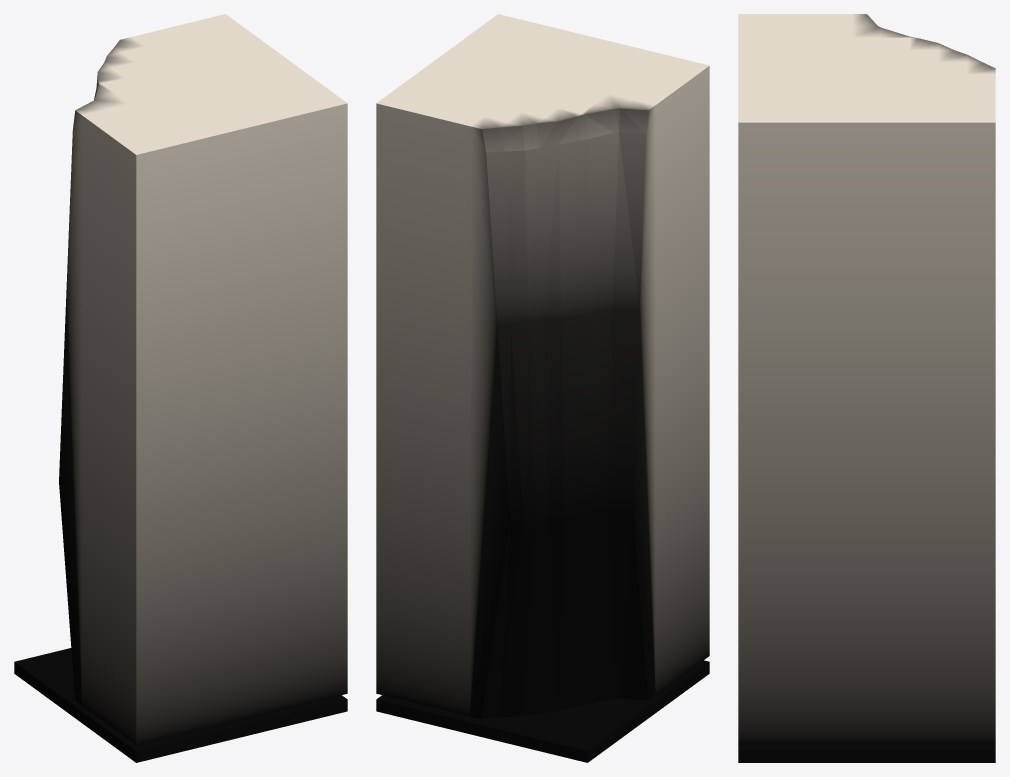
The model's file is SM_VKI_Ground_Cave_OOOX_Q01.fbx.
The picture shows the model from 3 angles, left to right: view 1: azimuth 30°, elevation 25°; view 2: azimuth 150°, elevation 25°; view 3: azimuth 270°, elevation 25°; orthographic projection. The views are drawn at different scales.
Parts seen in each view (by area): view 1: SM_VKI_Ground_Cave_OOOX_Q01.001; view 2: SM_VKI_Ground_Cave_OOOX_Q01.001; view 3: SM_VKI_Ground_Cave_OOOX_Q01.001.
Part boxes in pixels (box(x1,y1,x2,y2)): SM_VKI_Ground_Cave_OOOX_Q01.001: box(14, 14, 347, 762); SM_VKI_Ground_Cave_OOOX_Q01.001: box(376, 14, 709, 762); SM_VKI_Ground_Cave_OOOX_Q01.001: box(738, 14, 995, 762).
Bounding box in the file's own units: 1.5 × 4.12 × 1.5.
